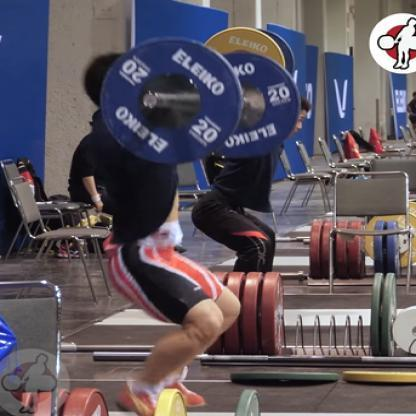barbell: (99, 40, 300, 165)
